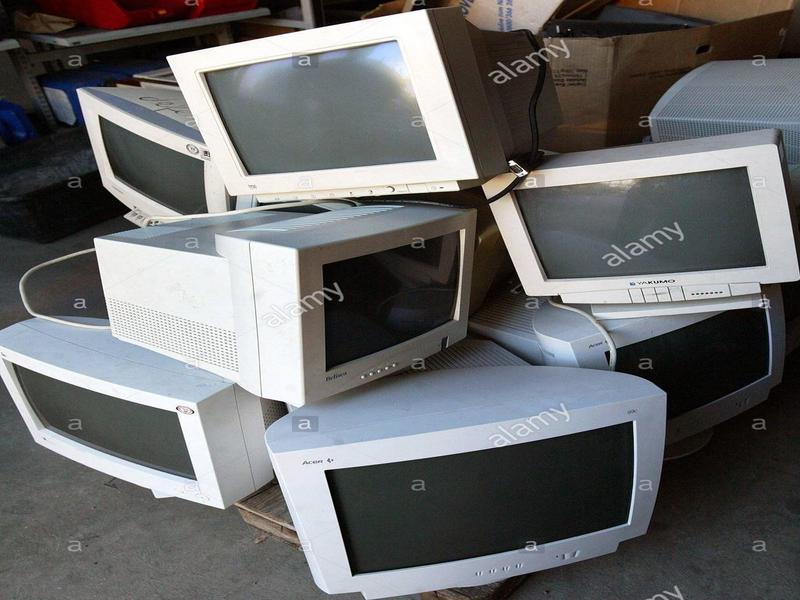tv_pc: (257, 364, 668, 600), (87, 197, 487, 407), (142, 5, 510, 208), (477, 128, 800, 325), (1, 313, 274, 514), (544, 305, 800, 463)
